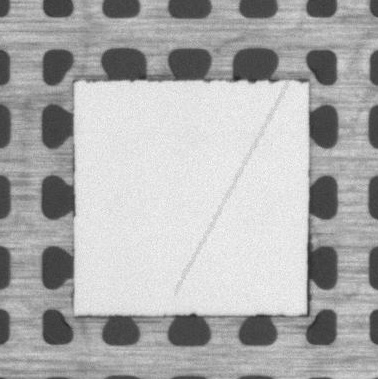DIE_CRACK: (175, 83, 287, 294)
